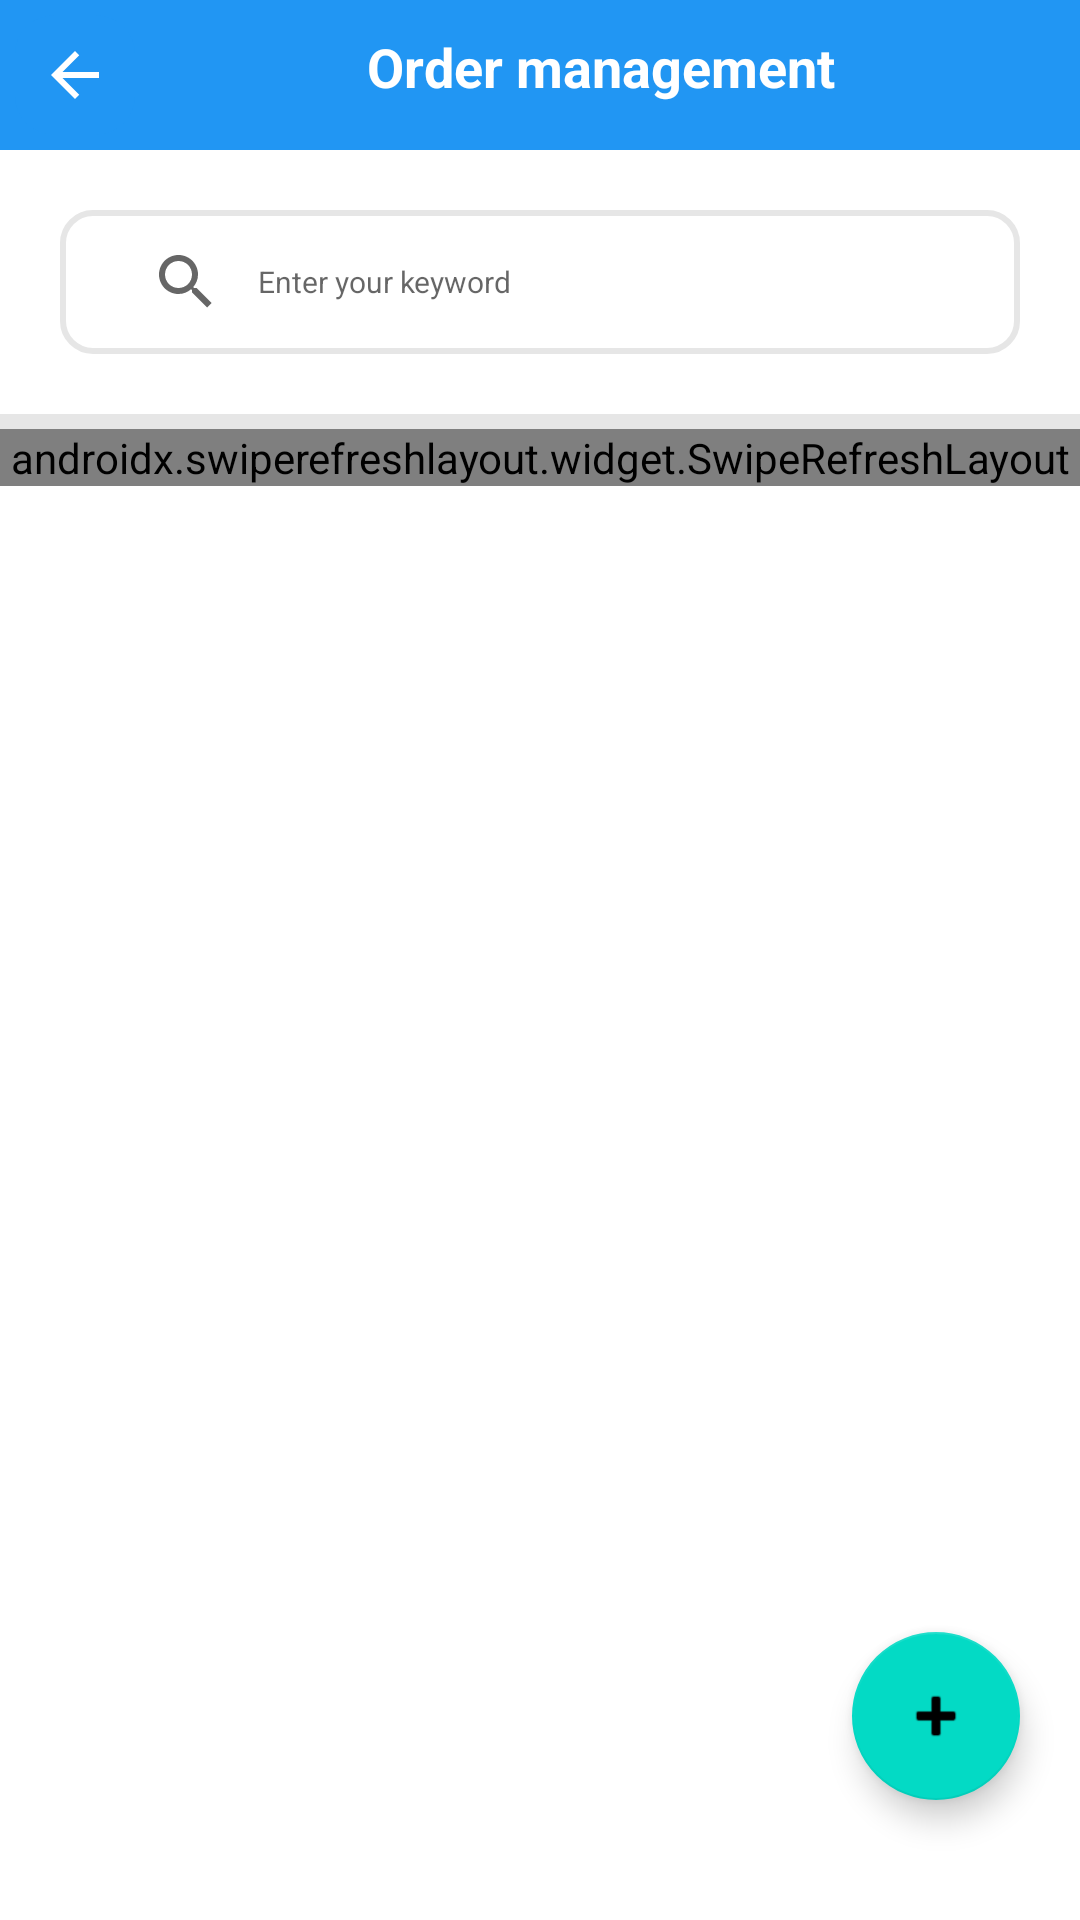

Icons on this 1080 × 1920 Android screen, each with the point to tap as point (x, y):
add: point (936, 1716)
arrow back: point (75, 75)
